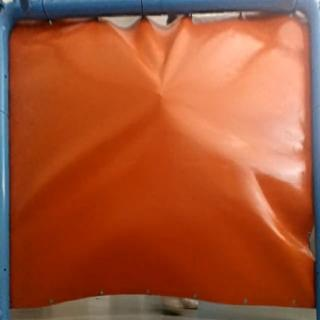Hit-hRxx: (148, 87, 170, 103)
